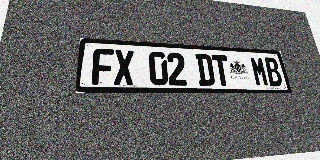0: (148, 51, 168, 85)
2: (167, 52, 187, 86)
B: (263, 57, 284, 86)
D: (195, 54, 216, 86)
F: (92, 48, 114, 85)
M: (249, 57, 270, 86)
T: (211, 55, 232, 86)
X: (114, 49, 134, 85)
